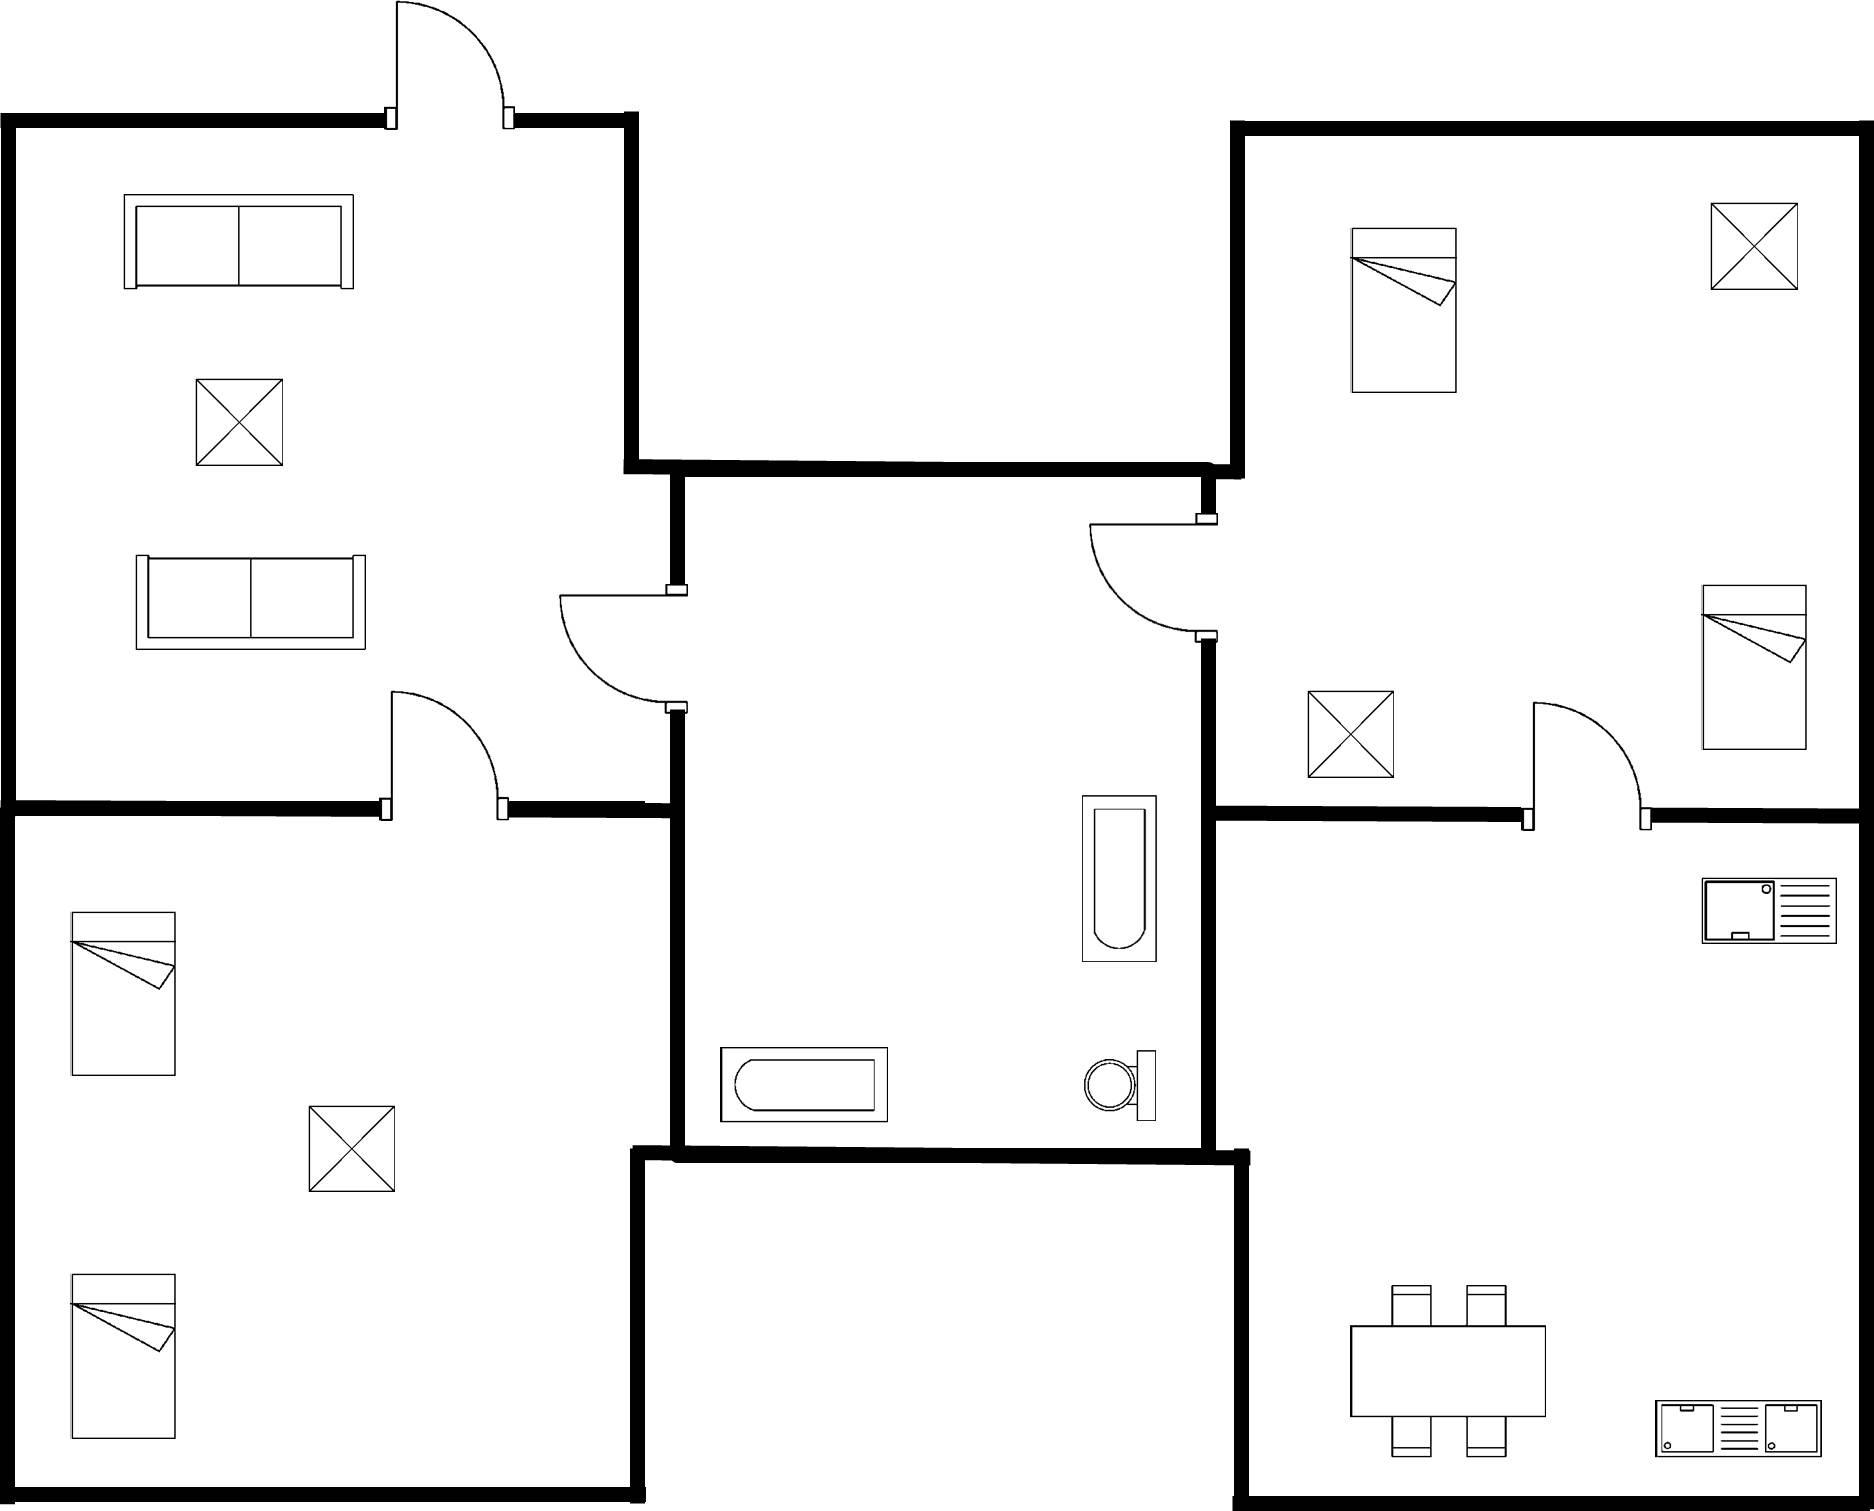sink: (1640, 1386, 1829, 1469)
